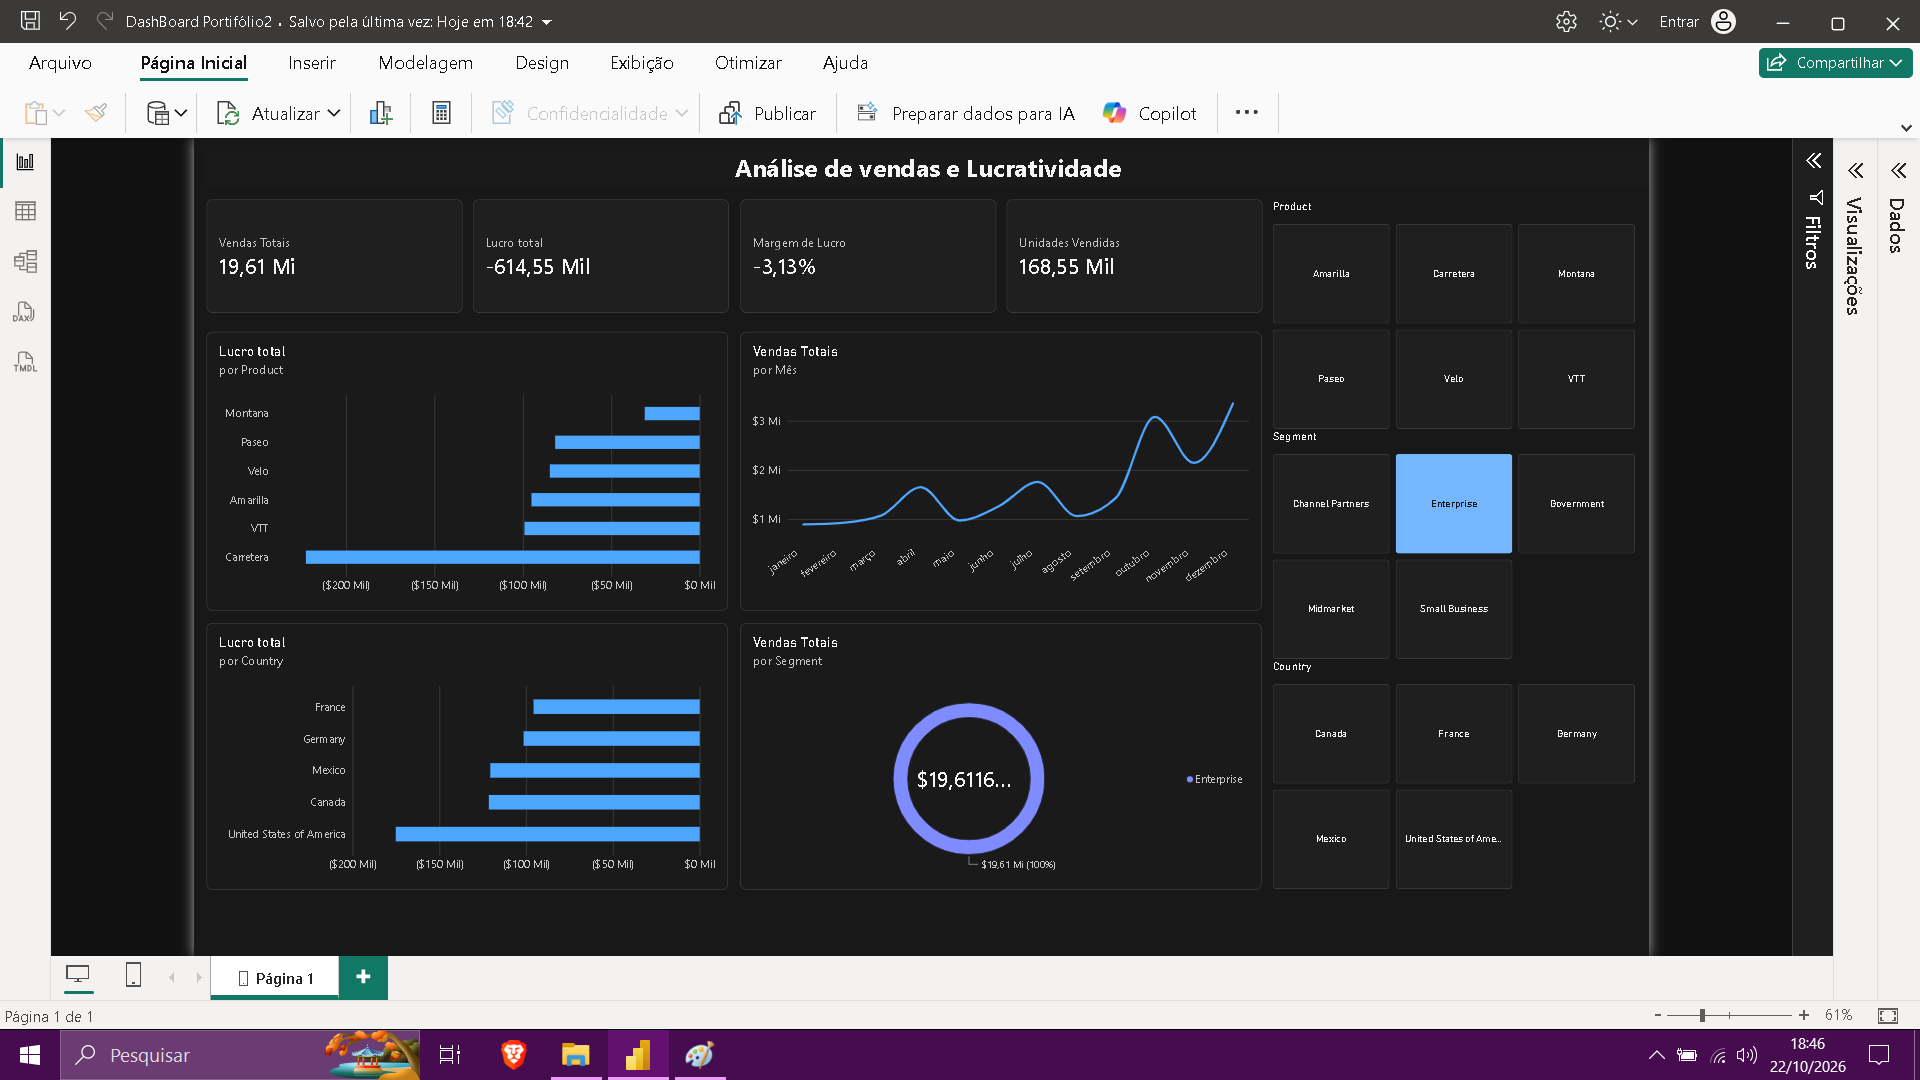

This screenshot's page, from the dashboard's own definition file:
{"tool":"powerbi","page":{"name":"Página 1","canvas":[1920,1080],"ordinal":0},"visuals":[{"type":"textbox","box":[16,16,1904,48],"z":0},{"type":"cardVisual","fields":{"Data":["financials.Vendas Totais"]},"box":[16,80,338.5,150.3],"z":1000},{"type":"cardVisual","fields":{"Data":["financials.Lucro total"]},"box":[368,80,338.5,150.3],"z":2000},{"type":"cardVisual","fields":{"Data":["financials.Margem de Lucro"]},"box":[720,80,338.5,150.3],"z":3000},{"type":"cardVisual","fields":{"Data":["financials.Unidades Vendidas"]},"box":[1072,80,338.5,150.3],"z":4000},{"type":"lineChart","fields":{"Category":["financials.Date.Variação.Hierarquia de datas.Ano","financials.Date.Variação.Hierarquia de datas.Trimestre","financials.Date.Variação.Hierarquia de datas.Mês","financials.Date.Variação.Hierarquia de datas.Dia"],"Y":["financials.Vendas Totais"]},"box":[720,256,688,368],"z":5000},{"type":"clusteredBarChart","fields":{"Category":["financials.Product"],"Y":["financials.Lucro total"]},"box":[16,256,688,368],"z":6000},{"type":"donutChart","fields":{"Category":["financials.Segment"],"Y":["financials.Vendas Totais"]},"box":[720,640,688,352],"z":7000},{"type":"clusteredBarChart","fields":{"Category":["financials.Country"],"Y":["financials.Lucro total"]},"box":[16,640,688,352],"z":8000},{"type":"advancedSlicerVisual","fields":{"Values":["financials.Country"]},"box":[1424,688,480,304],"z":9000},{"type":"advancedSlicerVisual","fields":{"Values":["financials.Segment"]},"box":[1424,384,480,304],"z":10000},{"type":"advancedSlicerVisual","fields":{"Values":["financials.Product"]},"box":[1424,80,480,304],"z":11000}]}

Visuals, with their boxes on the page's 1920x1080 design canvas (x1, y1, x2, y2). These are canvas units, not pixel positions in the 1920x1080 screenshot, which may show the page scaled, cropped or inside an application window:
textbox: <bbox>16, 16, 1920, 64</bbox>
cardVisual - financials.Vendas Totais: <bbox>16, 80, 354, 230</bbox>
cardVisual - financials.Lucro total: <bbox>368, 80, 706, 230</bbox>
cardVisual - financials.Margem de Lucro: <bbox>720, 80, 1058, 230</bbox>
cardVisual - financials.Unidades Vendidas: <bbox>1072, 80, 1410, 230</bbox>
lineChart - financials.Date.Variação.Hierarquia de datas.Ano x financials.Date.Variação.Hierarquia de datas.Trimestre: <bbox>720, 256, 1408, 624</bbox>
clusteredBarChart - financials.Product x financials.Lucro total: <bbox>16, 256, 704, 624</bbox>
donutChart - financials.Segment x financials.Vendas Totais: <bbox>720, 640, 1408, 992</bbox>
clusteredBarChart - financials.Country x financials.Lucro total: <bbox>16, 640, 704, 992</bbox>
advancedSlicerVisual - financials.Country: <bbox>1424, 688, 1904, 992</bbox>
advancedSlicerVisual - financials.Segment: <bbox>1424, 384, 1904, 688</bbox>
advancedSlicerVisual - financials.Product: <bbox>1424, 80, 1904, 384</bbox>
